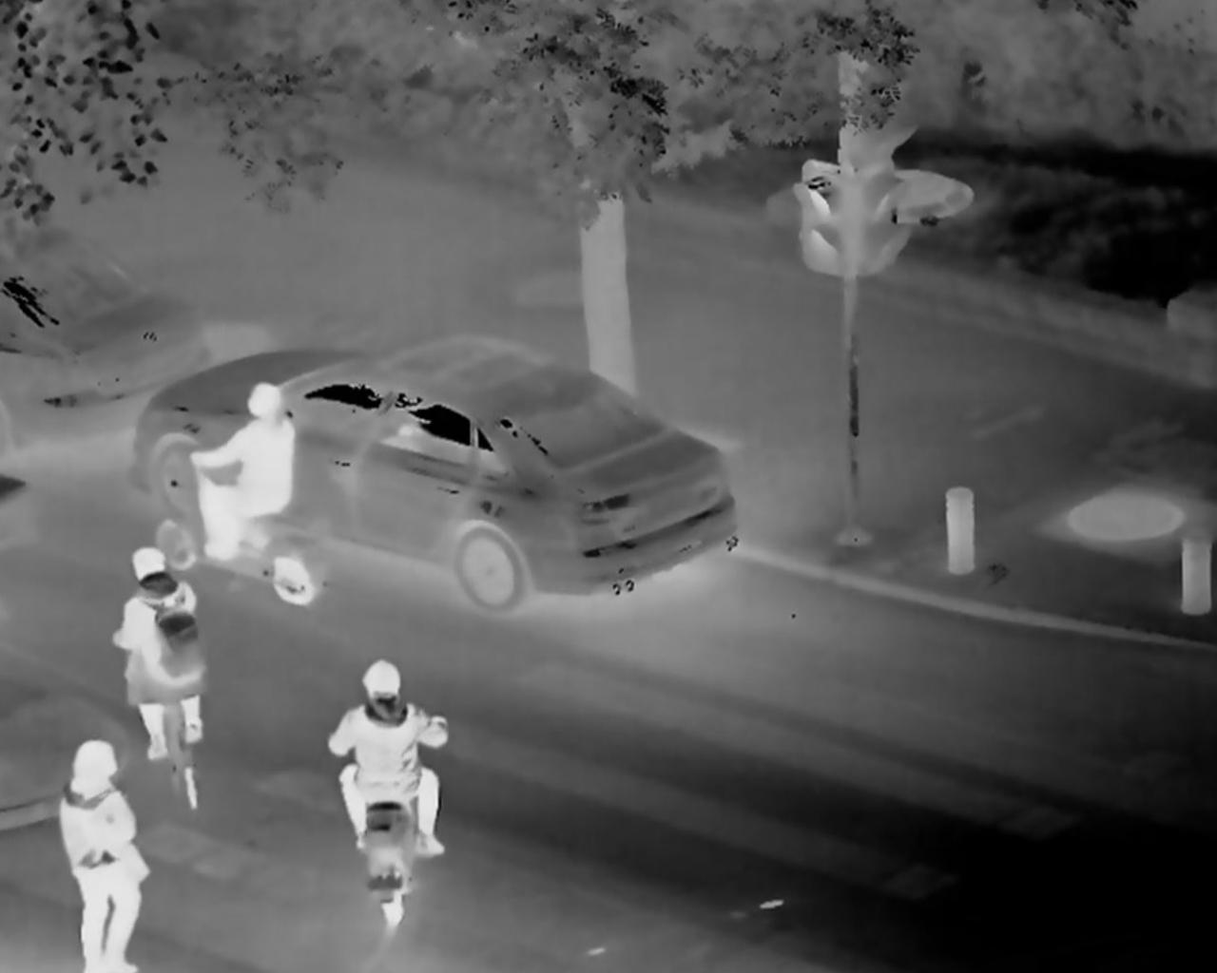person: (328, 657, 451, 880), (119, 546, 228, 787), (189, 380, 309, 584), (63, 738, 145, 973)
